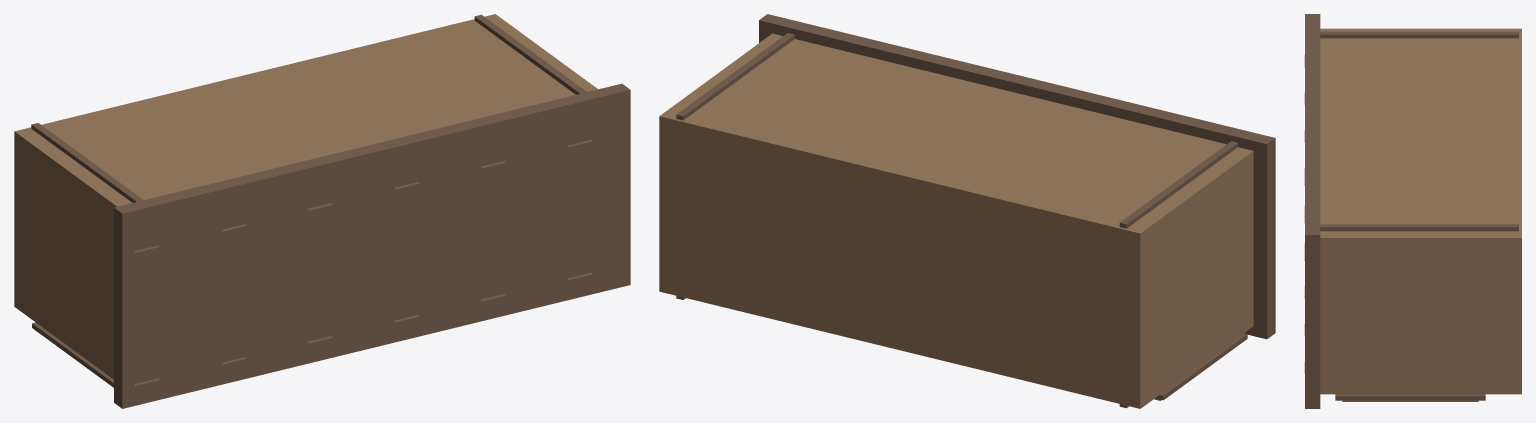
3 views of the same model, side by side, from view 1: azimuth 30°, elevation 25°; view 2: azimuth 150°, elevation 25°; view 3: azimuth 270°, elevation 25° (orthographic). The views are drawn at different scales.
Parts seen in each view (by area): view 1: PR-012_001_OverhangingThickWorktop_wood_edge, PR-012_000_CounterCarcass_wood, PR-012_009_WorkbenchEndTrim_wood_edge, PR-012_008_WorkbenchEndTrim_wood_edge, PR-012_002_FrontRaisedPanel_0_wood_edge; view 2: PR-012_000_CounterCarcass_wood, PR-012_001_OverhangingThickWorktop_wood_edge, PR-012_008_WorkbenchEndTrim_wood_edge, PR-012_009_WorkbenchEndTrim_wood_edge, PR-012_002_FrontRaisedPanel_0_wood_edge; view 3: PR-012_000_CounterCarcass_wood, PR-012_001_OverhangingThickWorktop_wood_edge, PR-012_008_WorkbenchEndTrim_wood_edge, PR-012_009_WorkbenchEndTrim_wood_edge, PR-012_006_FrontRaisedPanel_2_wood_edge, PR-012_007_LowerEdgePanel_2_wood.
Boxes of the visible parts, x1,y1,x2,y2 form: PR-012_001_OverhangingThickWorktop_wood_edge: (114,83,630,408); PR-012_000_CounterCarcass_wood: (14,14,597,379); PR-012_009_WorkbenchEndTrim_wood_edge: (474,14,586,94); PR-012_008_WorkbenchEndTrim_wood_edge: (31,123,143,202); PR-012_002_FrontRaisedPanel_0_wood_edge: (32,322,113,387); PR-012_000_CounterCarcass_wood: (659,33,1253,408); PR-012_001_OverhangingThickWorktop_wood_edge: (759,14,1275,339); PR-012_008_WorkbenchEndTrim_wood_edge: (1119,141,1237,408); PR-012_009_WorkbenchEndTrim_wood_edge: (676,33,794,299); PR-012_002_FrontRaisedPanel_0_wood_edge: (1155,333,1247,400); PR-012_000_CounterCarcass_wood: (1320,28,1521,394); PR-012_001_OverhangingThickWorktop_wood_edge: (1305,14,1320,408); PR-012_008_WorkbenchEndTrim_wood_edge: (1320,31,1518,38); PR-012_009_WorkbenchEndTrim_wood_edge: (1320,224,1518,231); PR-012_006_FrontRaisedPanel_2_wood_edge: (1335,394,1485,400); PR-012_007_LowerEdgePanel_2_wood: (1342,400,1478,401).
Size of the model in its own units: 1.88 by 0.693 by 0.7825.
